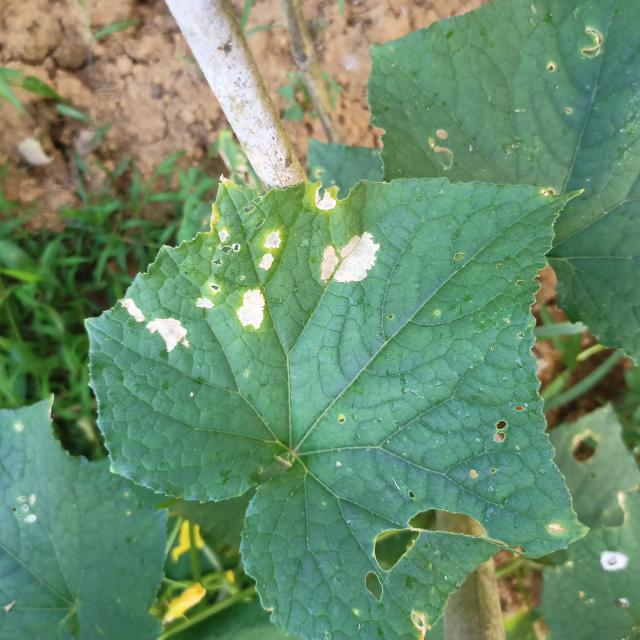disease_cucumber: (192, 225, 285, 336), (308, 229, 388, 303), (118, 297, 192, 357), (304, 182, 350, 218)
